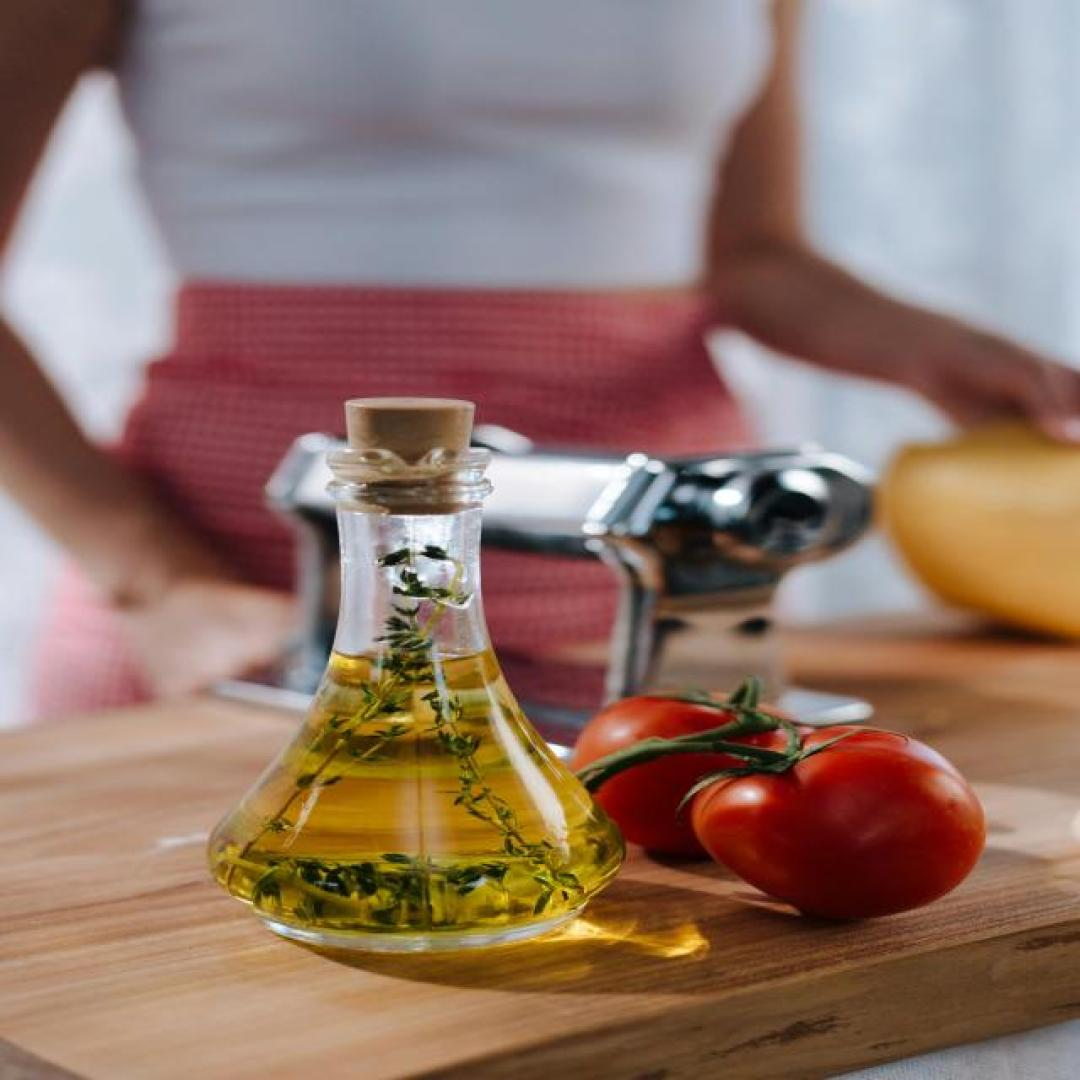matang: (688, 727, 989, 915), (568, 692, 821, 855)
